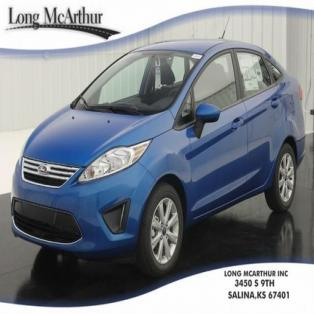Auto: (10, 41, 305, 276)
